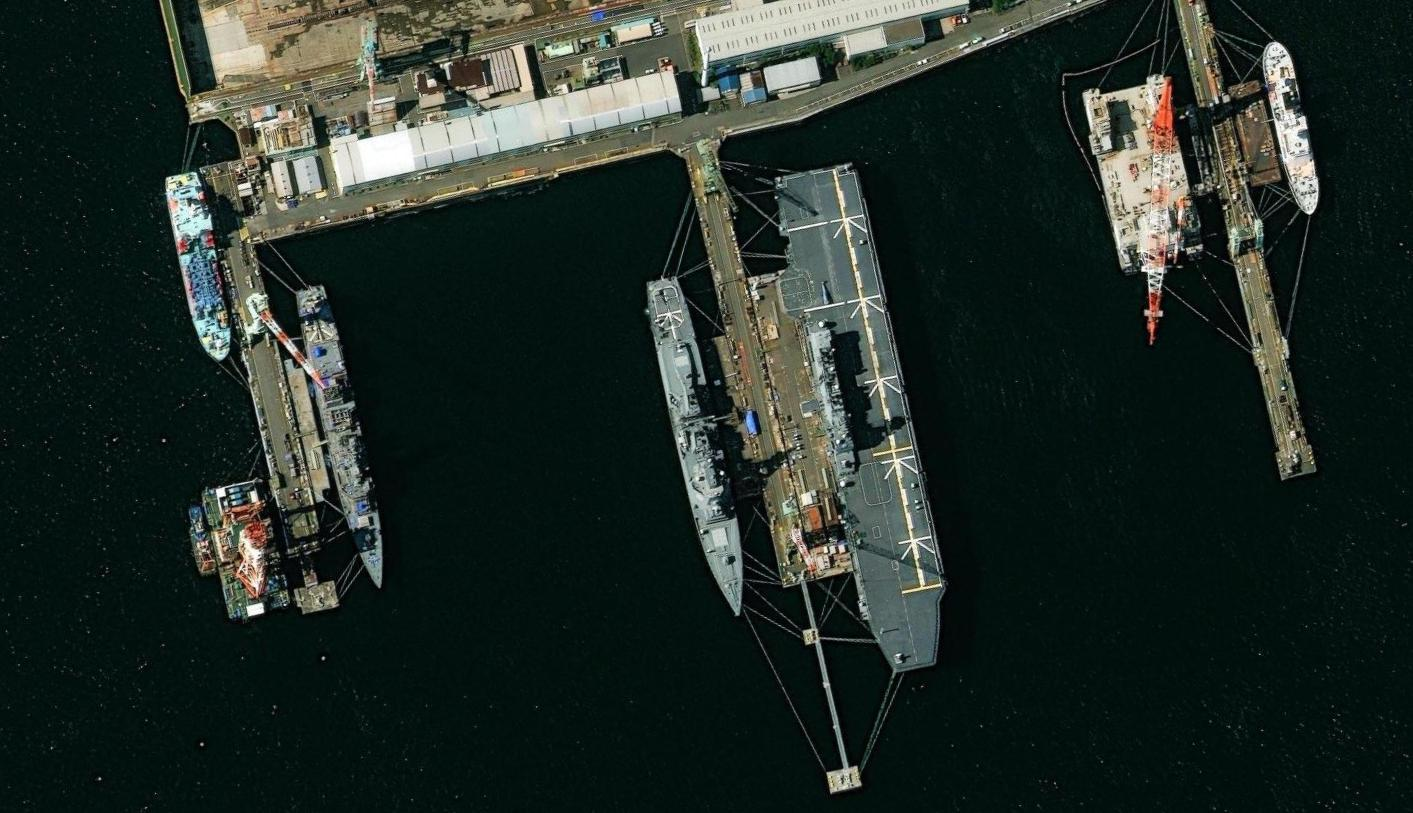destroyer: (635, 259, 760, 626), (288, 269, 395, 588)
pha: (761, 154, 962, 680)
